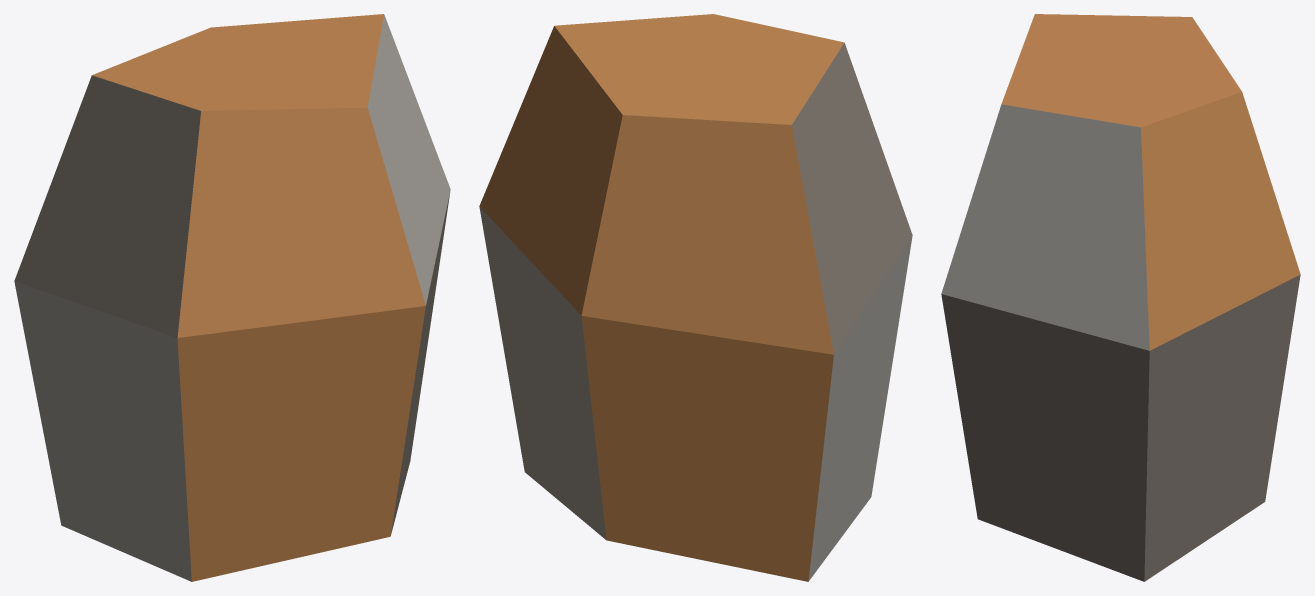
3 views of the same model, side by side, from view 1: azimuth 30°, elevation 25°; view 2: azimuth 150°, elevation 25°; view 3: azimuth 270°, elevation 25° (orthographic). The views are drawn at different scales.
Parts seen in each view (by area): view 1: Iron_Deposit; view 2: Iron_Deposit; view 3: Iron_Deposit.
Boxes of the visible parts, x1,y1,x2,y2 form: Iron_Deposit: (14,14,450,581); Iron_Deposit: (479,14,912,581); Iron_Deposit: (941,14,1300,581).
Bounding box in the file's own units: 0.8058 × 0.9051 × 0.6521.
